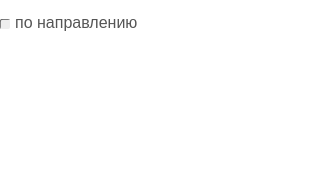
it: Section › перерисовывается при изменении условий видимости
The width and height of the screenshot is (320, 172).
Click the checkbox with id "checkbox-poNapravleniu": click(69, 23) [0, 14, 137, 32]
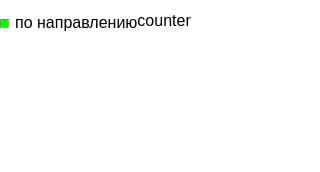
Check: the text "counter" is shown, box [137, 12, 191, 29]
